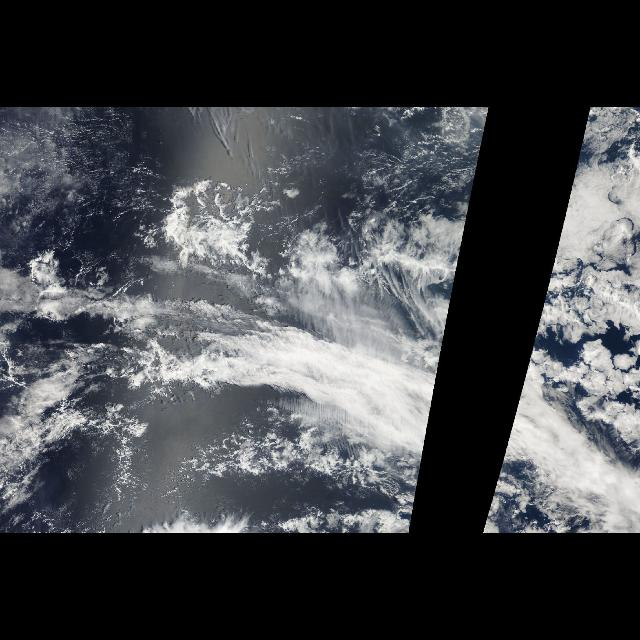Sugar: (1, 109, 150, 219)
